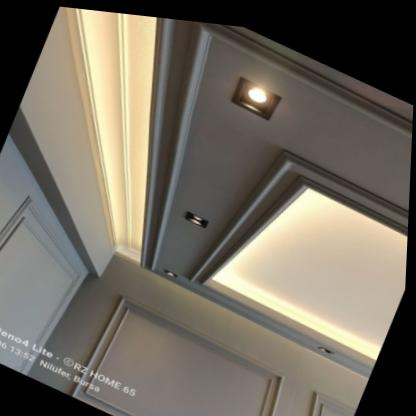Gypsum Board: (0, 0, 416, 400)
